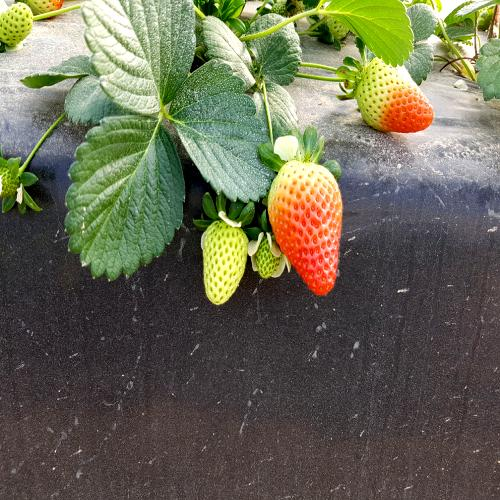partially-ripe: (264, 154, 356, 304), (357, 50, 440, 143)
unripe: (198, 210, 250, 311)
